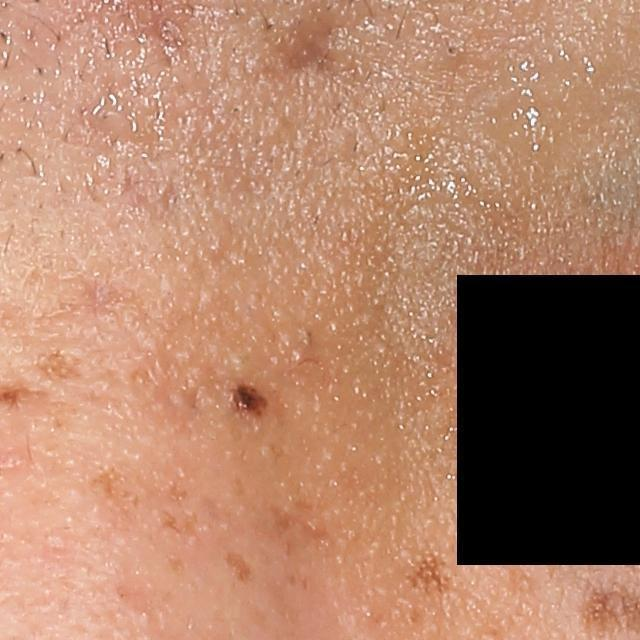atrophic_scar: (130, 327, 223, 448), (272, 4, 348, 81)
melasma: (267, 490, 340, 595), (154, 491, 218, 577), (87, 461, 151, 517), (401, 554, 453, 603), (225, 549, 261, 584)
nevus: (230, 384, 268, 424)
